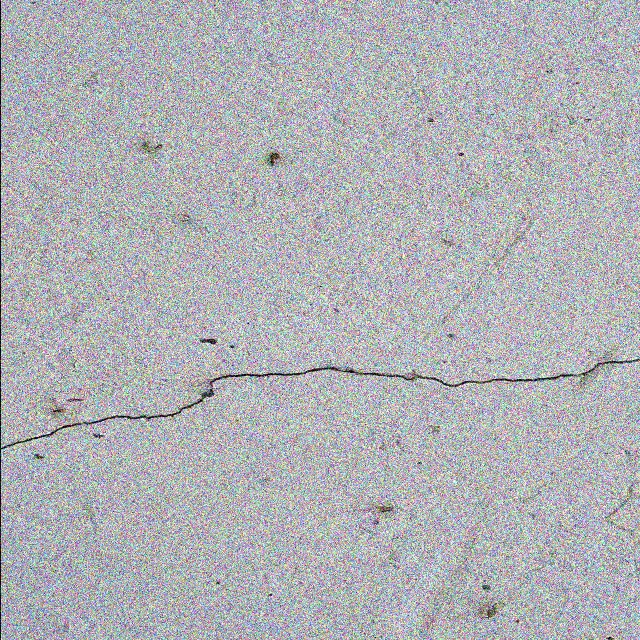SurfaceCrack: (0, 315, 639, 469)
